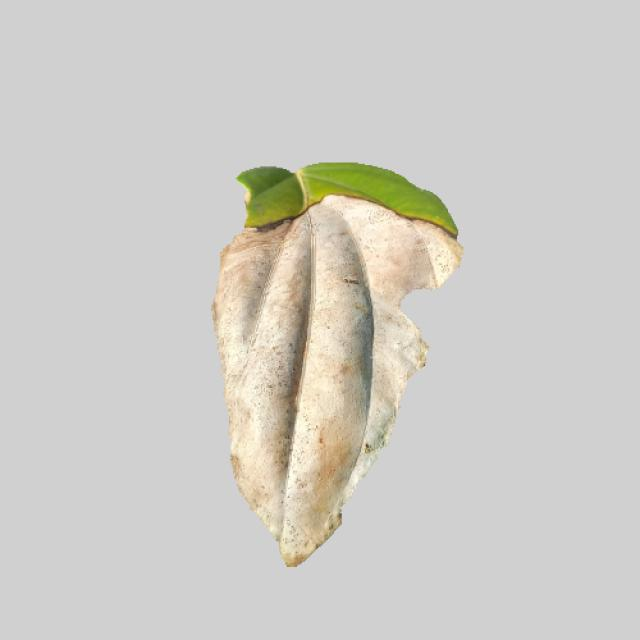leaf-blight: (207, 160, 468, 564)
